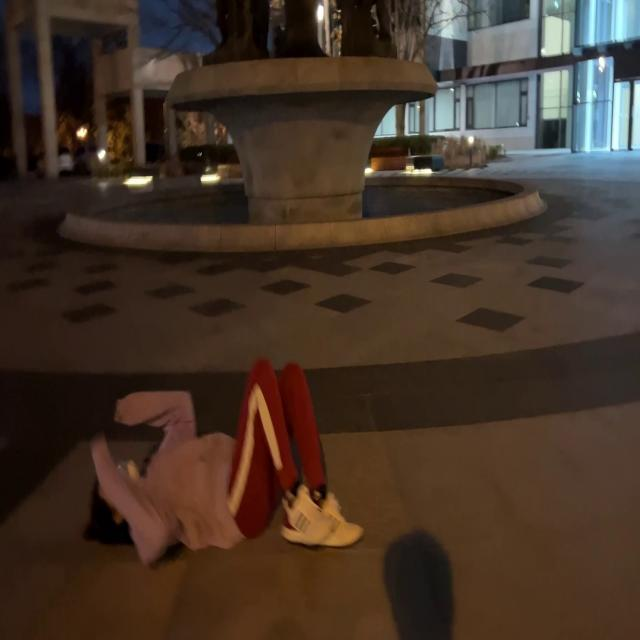Fall: (83, 359, 364, 566)
